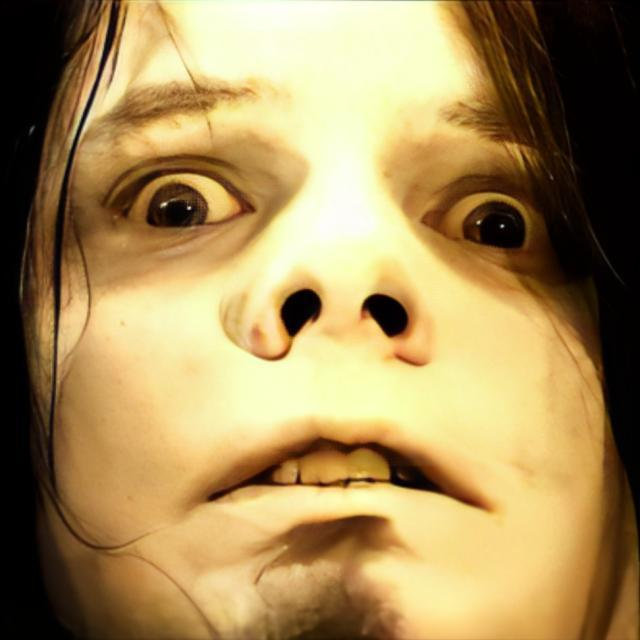fear: (26, 0, 634, 640)
